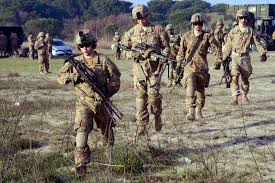gun: (63, 56, 124, 122), (116, 42, 179, 75), (169, 54, 188, 98), (217, 53, 233, 89)
